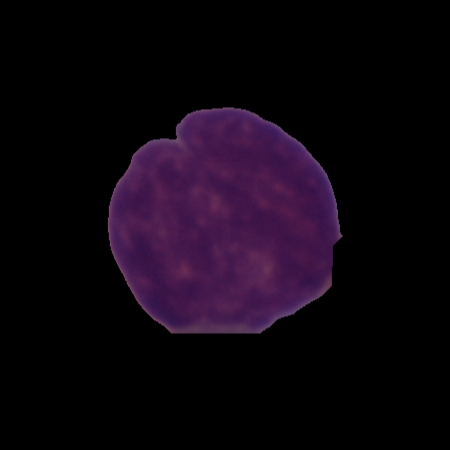ALL: (103, 104, 346, 339)
